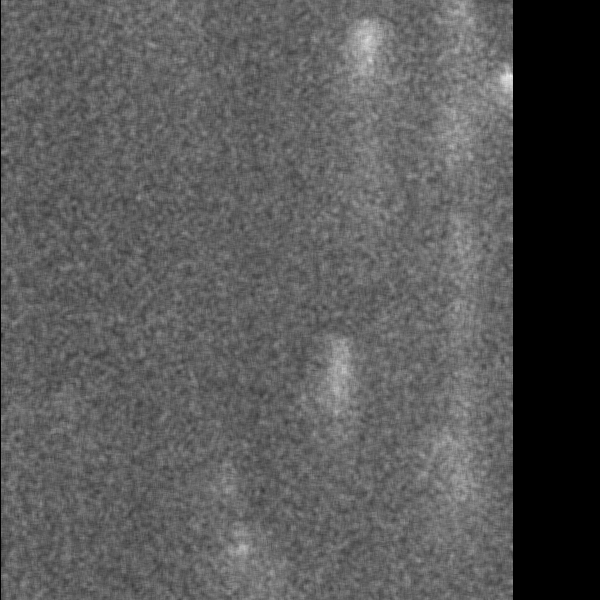spark: (322, 328, 363, 460), (349, 13, 383, 118), (430, 465, 486, 515), (222, 523, 256, 598), (446, 211, 471, 271), (441, 3, 478, 23), (449, 292, 470, 320)
